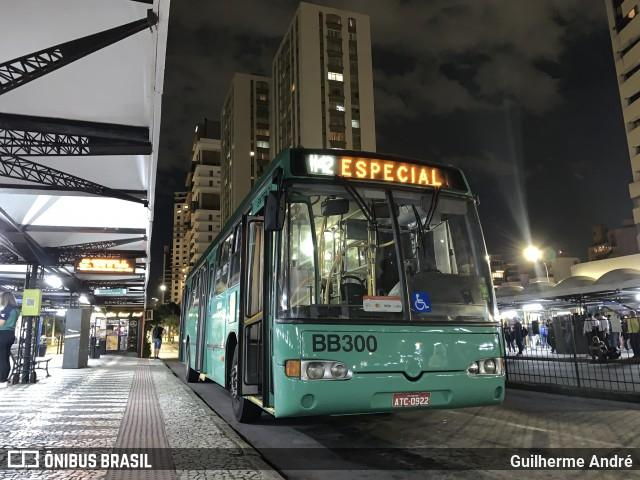ESPECIAL: (336, 152, 447, 188)
